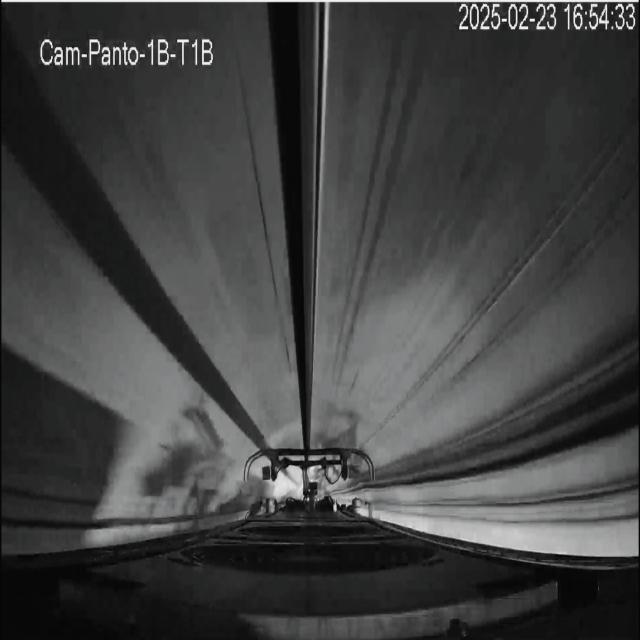Camera Stamp: (35, 28, 219, 70)
Date Stamp: (459, 3, 637, 33)
No - Spark: (244, 447, 375, 514)
